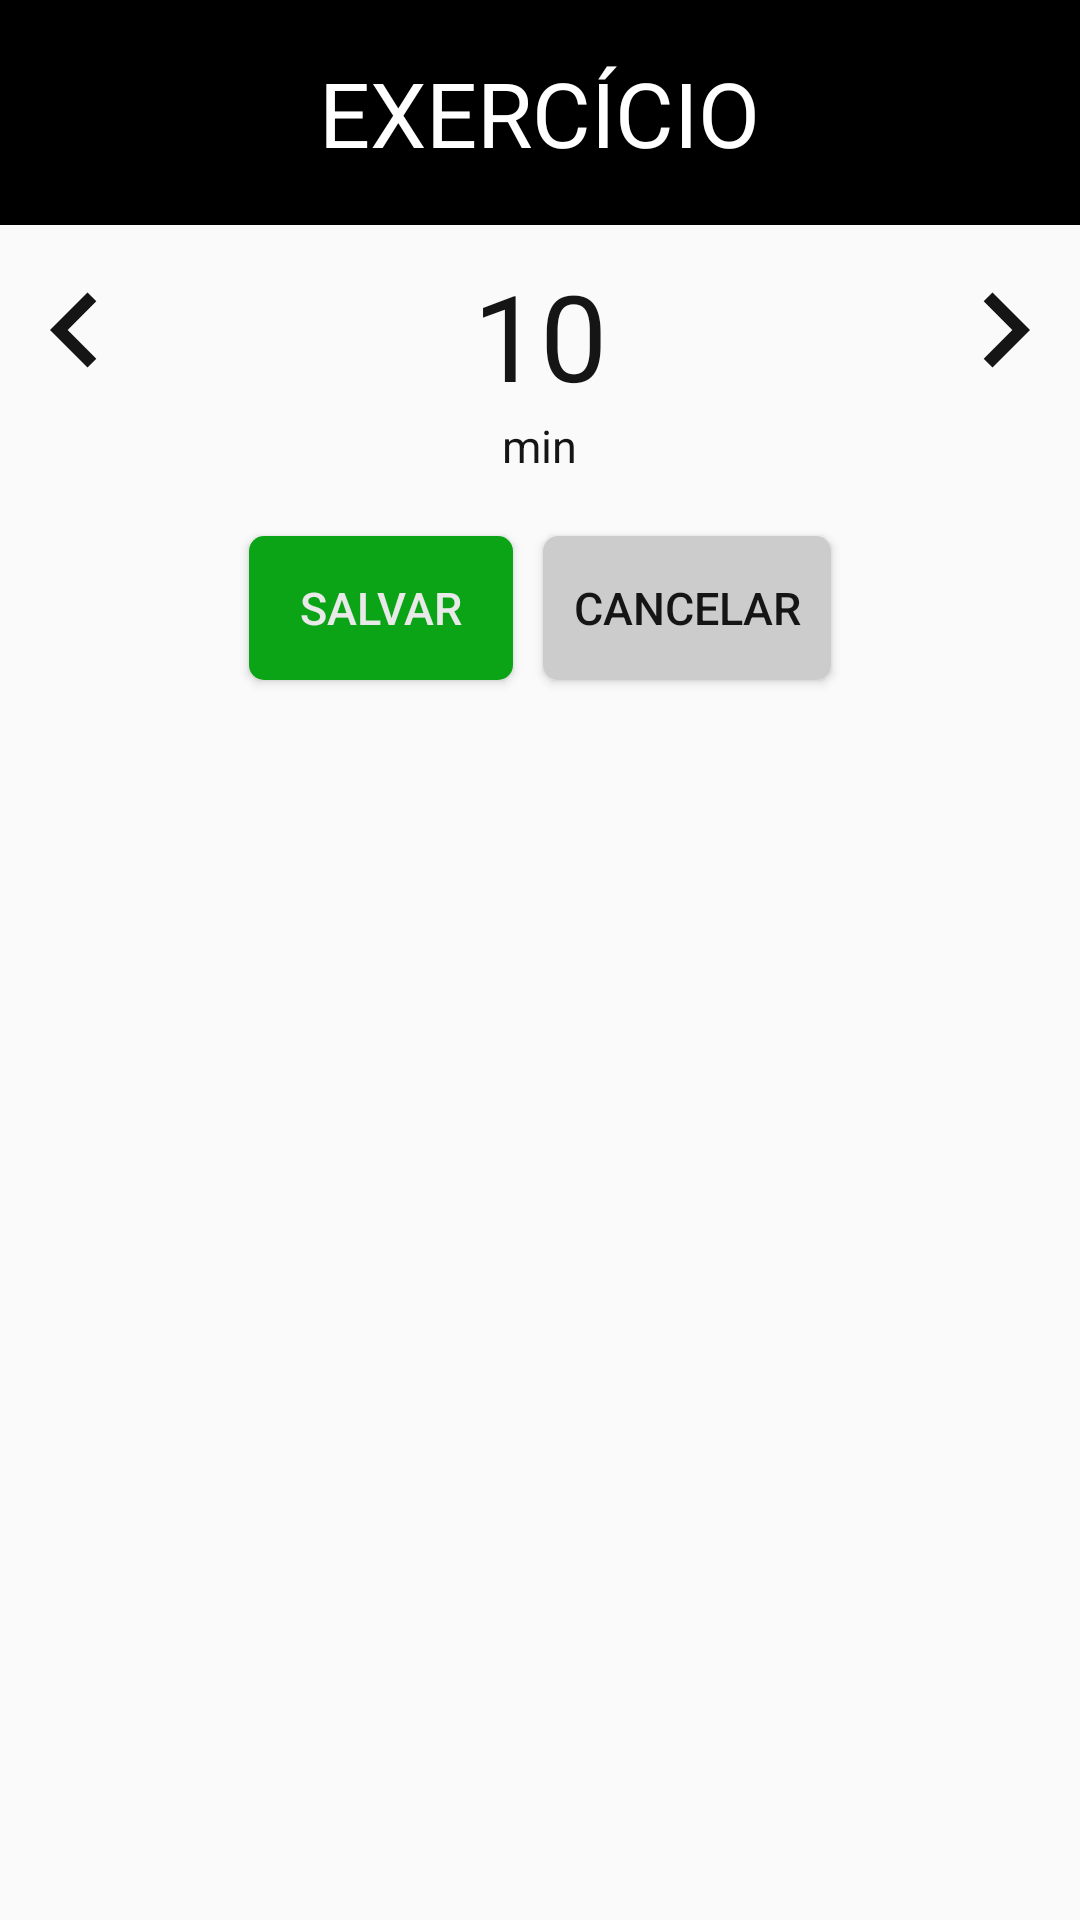

Where icons sit on this 1080px×1920px app screen, as BBox(x1, y1, x2, y2):
navigate before dialog: BBox(50, 292, 96, 368)
navigate next dialog: BBox(984, 292, 1030, 368)
